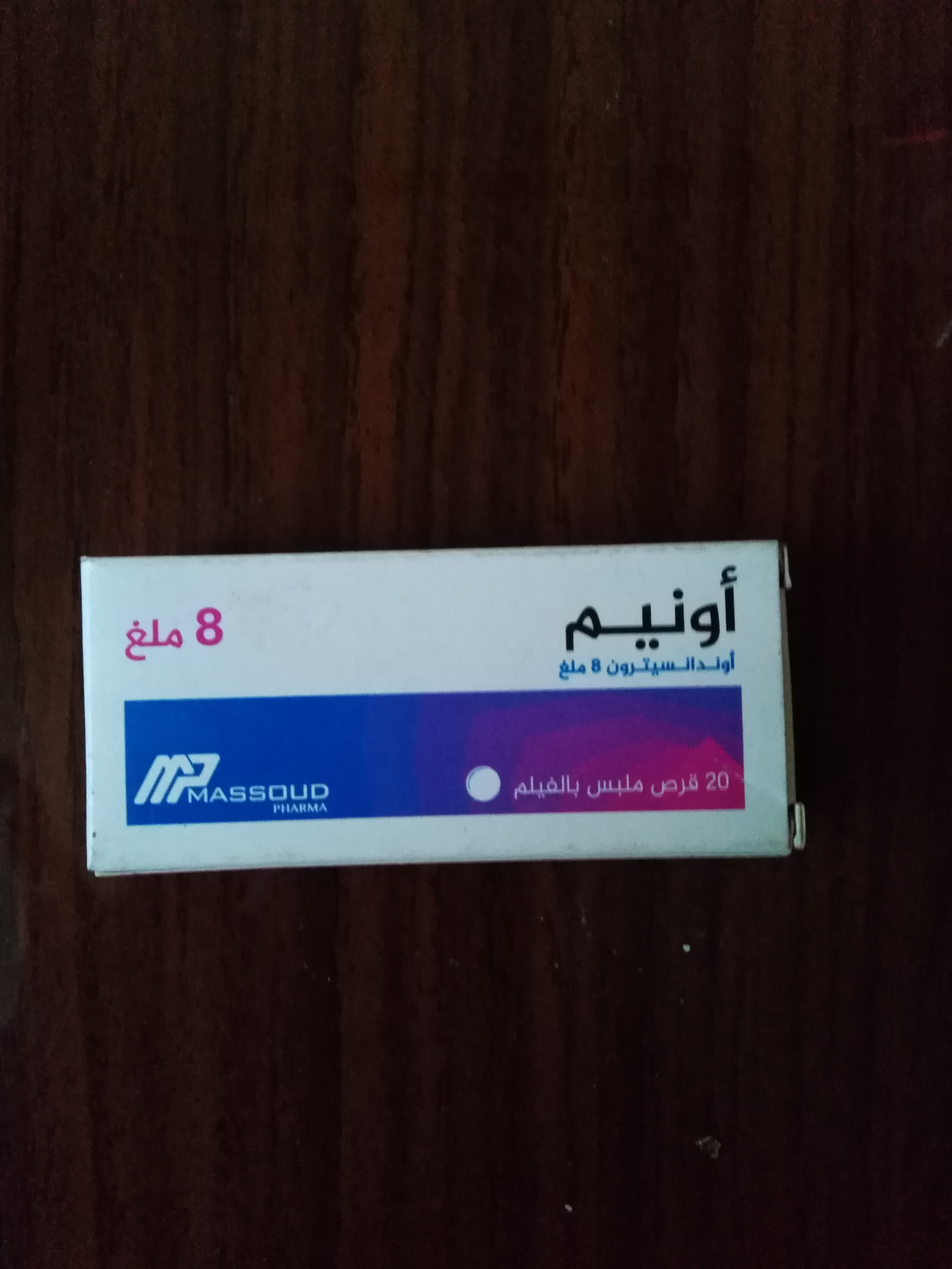Medicine: (63, 523, 809, 898)
